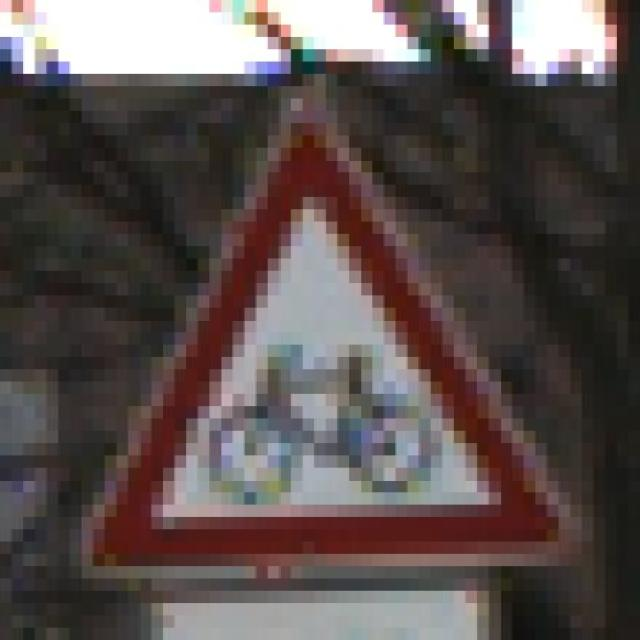CYCLE ROUTE AHEAD WARNING: (58, 62, 582, 590)
